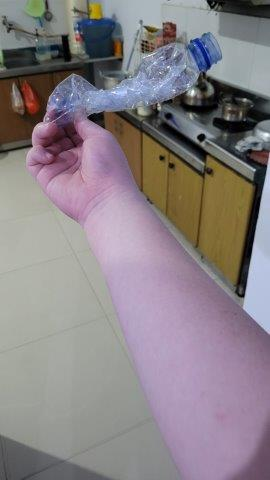botolplastik: (43, 32, 221, 124)
